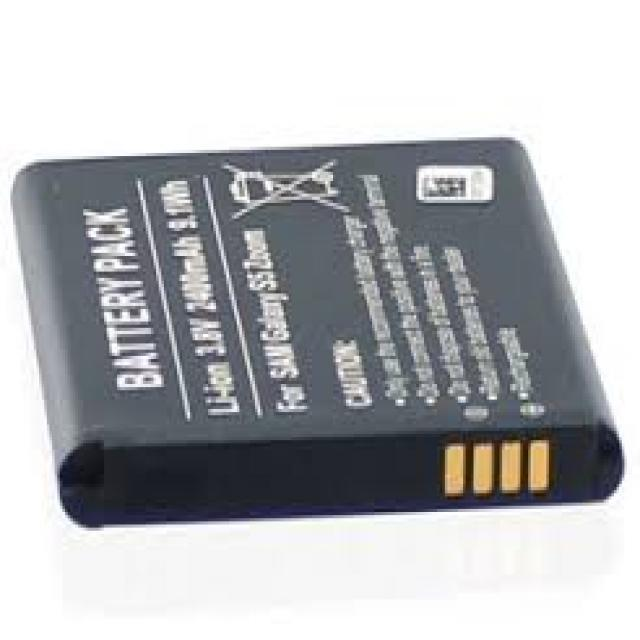battery: (14, 137, 630, 532)
